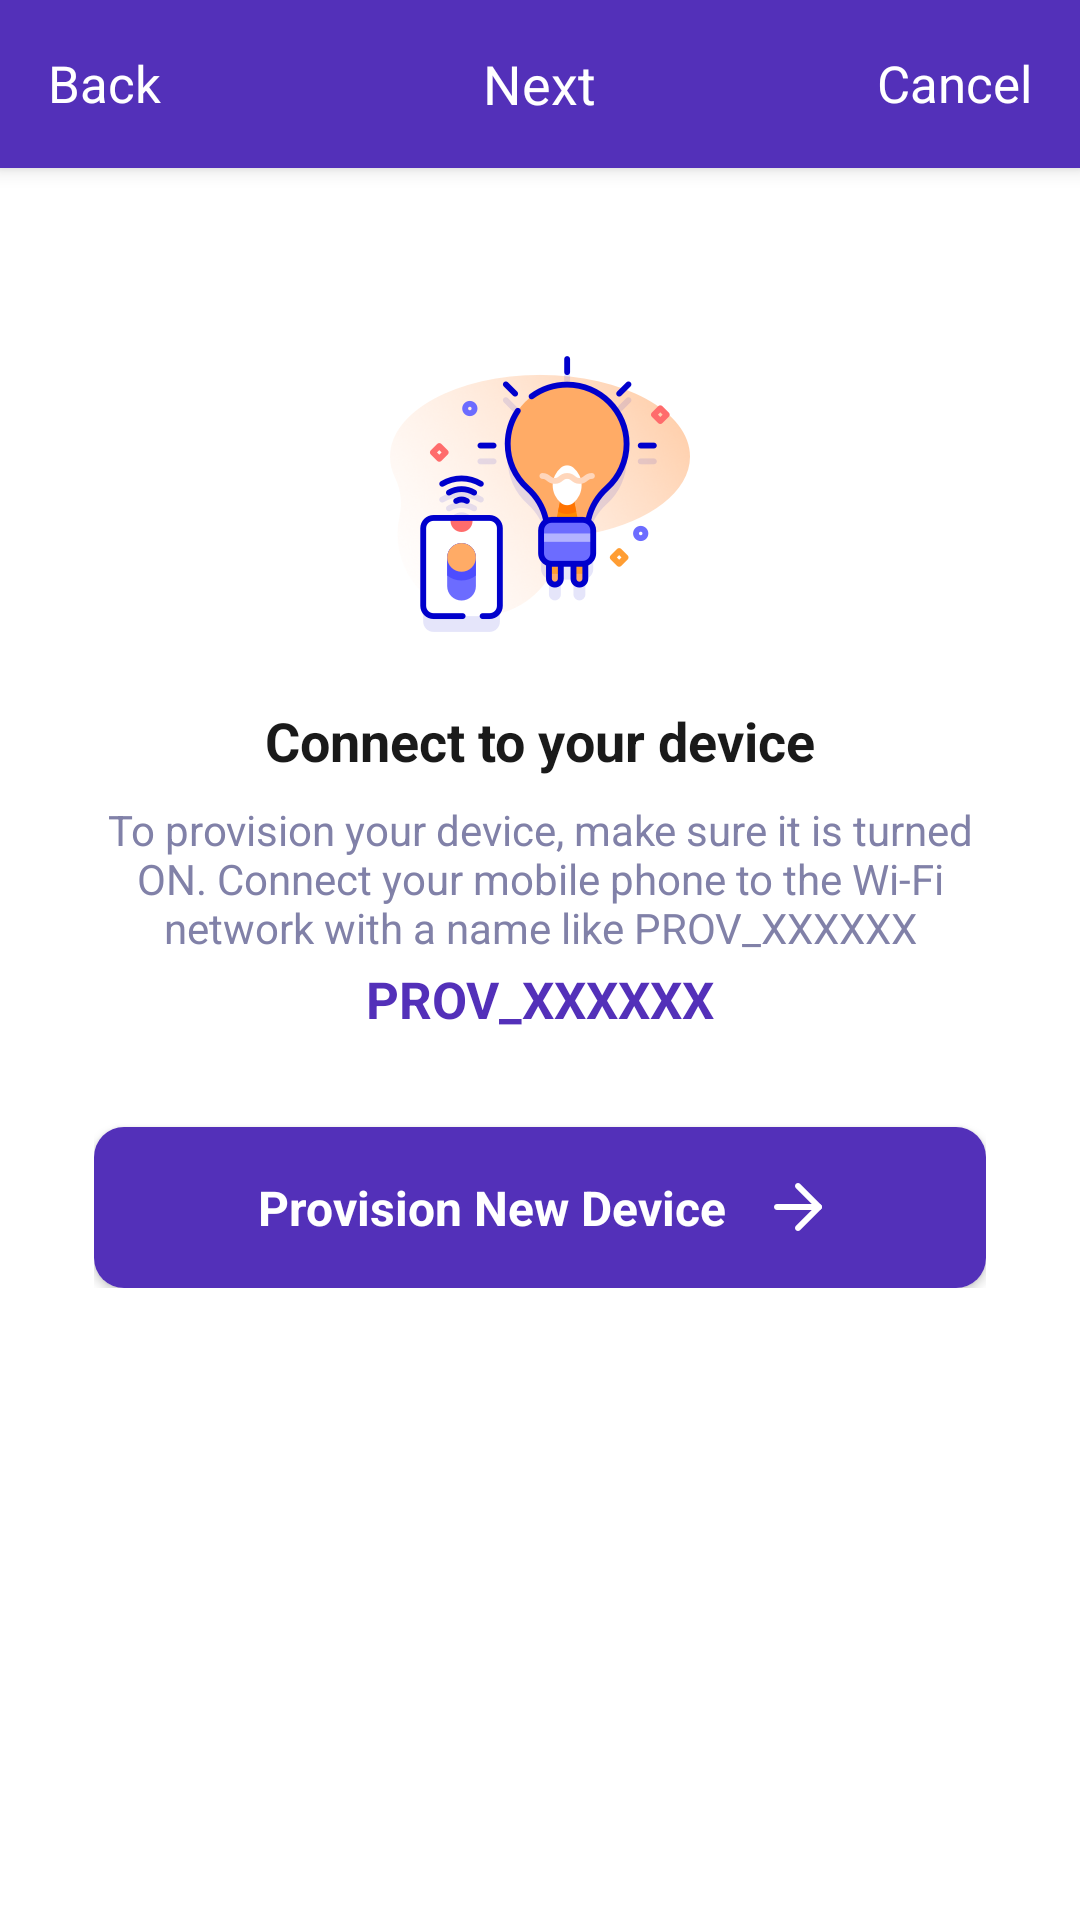

Screen size 1080 x 1920. Icon name, then its box in pixels as (x1, y1, x2, y2):
right arrow: (774, 1183, 822, 1231)
